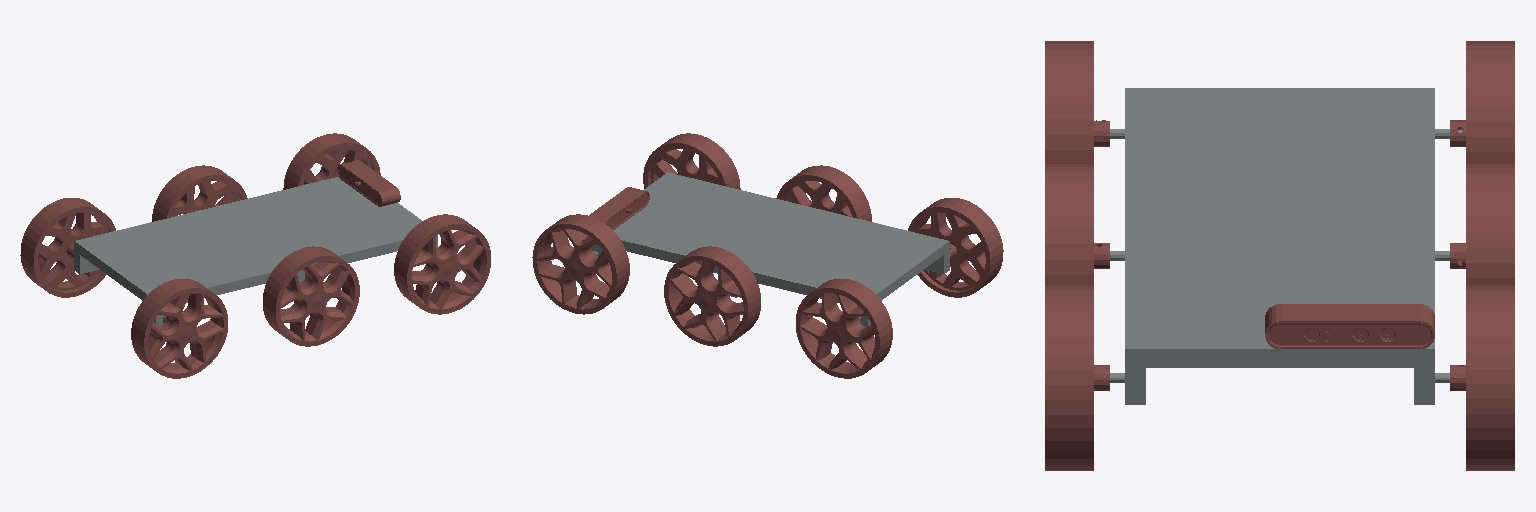
robot.urdf — robot_6wheel_package:
<?xml version="1.0" encoding="utf-8"?>
<!-- This URDF was automatically created by SolidWorks to URDF Exporter! Originally created by [author] ([email redacted]) 
     Commit Version: 1.6.0-4-g7f85cfe  Build Version: 1.6.7995.38578
     For more information, please see http://wiki.ros.org/sw_urdf_exporter -->
<robot
  name="robot_6wheel_package">
  <gazebo reference="chasis_base_link">
   <material>Gazebo/Orange</material>
   <mu1>0.5</mu1>
   <mu2>0.5</mu2>
  </gazebo>
  <gazebo reference="wheel1_link">
     <material>Gazebo/White</material>
     <mu1>0.5</mu1>
     <mu2>0.5</mu2>
    </gazebo>
  <gazebo reference="wheel2_link">
     <material>Gazebo/White</material>
     <mu1>0.5</mu1>
     <mu2>0.5</mu2>
    </gazebo>
  <gazebo reference="wheel3_link">
     <material>Gazebo/White</material>
     <mu1>0.5</mu1>
     <mu2>0.5</mu2>
    </gazebo>
  <gazebo reference="wheel4_link">
     <material>Gazebo/White</material>
     <mu1>0.5</mu1>
     <mu2>0.5</mu2>
    </gazebo>
  <gazebo reference="wheel5_link">
     <material>Gazebo/White</material>
     <mu1>0.5</mu1>
     <mu2>0.5</mu2>
    </gazebo>
  <gazebo reference="wheel6_link">
     <material>Gazebo/White</material>
     <mu1>0.5</mu1>
     <mu2>0.5</mu2>
    </gazebo>
  <gazebo>
    <plugin filename="libgazebo_ros_diff_drive.so" name="differential_drive_controller">
        <alwaysOn>true</alwaysOn>
        <updateRate>20</updateRate>
        <leftJoint>wheel1_joint</leftJoint>
        <rightJoint>wheel4_joint</rightJoint>
        <wheelSeparation>0.204</wheelSeparation>
        <wheelDiameter>0.09</wheelDiameter>
        <torque>1</torque>
        <commandTopic>cmd_vel</commandTopic>
        <odometryTopic>odom</odometryTopic>
        <odometryFrame>odom</odometryFrame>
        <robotBaseFrame>link_chassis</robotBaseFrame>
    </plugin>
  </gazebo>

  <gazebo reference="camera_Link">
    <sensor type="ray" name="head_hokuyo_sensor">
        <pose>0 0 0 0 0 0</pose>
        <visualize>true</visualize>
        <update_rate>20</update_rate>
        <ray>
            <scan>
                <horizontal>
                    <samples>720</samples>
                    <resolution>1</resolution>
                    <min_angle>-0.7854</min_angle>
                    <max_angle>0.7854</max_angle>
                </horizontal>
            </scan>
            <range>
                <min>0.20</min>
                <max>5</max>
                <resolution>0.01</resolution>
            </range>
            <noise>
                <type>gaussian</type>
                <mean>0.0</mean>
                <stddev>0.01</stddev>
            </noise>
        </ray>
        <plugin name="gazebo_ros_head_hokuyo_controller" filename="libgazebo_ros_laser.so">
            <topicName>/laser/scan</topicName>
            <frameName>sensor_laser</frameName>
        </plugin>
    </sensor>
   </gazebo>

  <link
    name="chasis_base_link">
    <inertial>
      <origin
        xyz="0.15 0.075 -0.00582993130335166"
        rpy="0 0 0" />
      <mass
        value="3.7155783170235" />
      <inertia
        ixx="0.00771270055030406"
        ixy="-8.76827992918461E-18"
        ixz="-7.78645455459057E-20"
        iyy="0.0290967066578026"
        iyz="-1.44687258735659E-19"
        izz="0.036650978009623" />
    </inertial>
    <visual>
      <origin
        xyz="0 0 0"
        rpy="0 0 0" />
      <geometry>
        <mesh
          filename="package://robot_6wheel_package/meshes/chasis_base_link.STL" />
      </geometry>
      <material
        name="">
        <color
          rgba="0.529411764705882 0.549019607843137 0.549019607843137 1" />
      </material>
    </visual>
    <collision>
      <origin
        xyz="0 0 0"
        rpy="0 0 0" />
      <geometry>
        <mesh
          filename="package://robot_6wheel_package/meshes/chasis_base_link.STL" />
      </geometry>
    </collision>
  </link>
  <link
    name="wheel1_link">
    <inertial>
      <origin
        xyz="3.4095E-06 2.8072E-05 0.020558"
        rpy="0 0 0" />
      <mass
        value="0.78115" />
      <inertia
        ixx="0.00047604"
        ixy="-9.2939E-08"
        ixz="-2.7041E-09"
        iyy="0.00047528"
        iyz="-2.2261E-08"
        izz="0.00089314" />
    </inertial>
    <visual>
      <origin
        xyz="0 0 0"
        rpy="0 0 0" />
      <geometry>
        <mesh
          filename="package://robot_6wheel_package/meshes/wheel1_link.STL" />
      </geometry>
      <material
        name="">
        <color
          rgba="0.53725 0.34902 0.33725 1" />
      </material>
    </visual>
    <collision>
      <origin
        xyz="0 0 0"
        rpy="0 0 0" />
      <geometry>
        <mesh
          filename="package://robot_6wheel_package/meshes/wheel1_link.STL" />
      </geometry>
    </collision>
  </link>
  <joint
    name="wheel1_joint"
    type="revolute">
    <origin
      xyz="0.29 0.15725 -0.02"
      rpy="-1.5708 0 0" />
    <parent
      link="chasis_base_link" />
    <child
      link="wheel1_link" />
    <axis
      xyz="0 0 1" />
    <limit
      lower="-10000"
      upper="10000"
      effort="10000"
      velocity="10000" />
    <dynamics 
      damping="0"
      friction= "0.005" />
  </joint>
  <link
    name="wheel2_link">
    <inertial>
      <origin
        xyz="-2.8011E-05 -3.8831E-06 0.020558"
        rpy="0 0 0" />
      <mass
        value="0.78115" />
      <inertia
        ixx="0.00047529"
        ixy="-1.0561E-07"
        ixz="2.2212E-08"
        iyy="0.00047603"
        iyz="3.079E-09"
        izz="0.00089314" />
    </inertial>
    <visual>
      <origin
        xyz="0 0 0"
        rpy="0 0 0" />
      <geometry>
        <mesh
          filename="package://robot_6wheel_package/meshes/wheel2_link.STL" />
      </geometry>
      <material
        name="">
        <color
          rgba="0.53725 0.34902 0.33725 1" />
      </material>
    </visual>
    <collision>
      <origin
        xyz="0 0 0"
        rpy="0 0 0" />
      <geometry>
        <mesh
          filename="package://robot_6wheel_package/meshes/wheel2_link.STL" />
      </geometry>
    </collision>
  </link>
  <joint
    name="wheel2_joint"
    type="revolute">
    <origin
      xyz="0.15 0.15725 -0.02"
      rpy="-1.5708 0 0" />
    <parent
      link="chasis_base_link" />
    <child
      link="wheel2_link" />
    <axis
      xyz="0 0 1" />
    <dynamics 
      damping="0"
      friction= "0.005" />
    <limit
      lower="-10000"
      upper="10000"
      effort="10000"
      velocity="10000" />
    <dynamics 
      damping="0"
      friction= "0" />
  </joint>
  <link
    name="wheel3_link">
    <inertial>
      <origin
        xyz="-2.1048E-05 1.8886E-05 0.020558"
        rpy="0 0 0" />
      <mass
        value="0.78115" />
      <inertia
        ixx="0.00047562"
        ixy="3.8598E-07"
        ixz="1.6691E-08"
        iyy="0.0004757"
        iyz="-1.4977E-08"
        izz="0.00089314" />
    </inertial>
    <visual>
      <origin
        xyz="0 0 0"
        rpy="0 0 0" />
      <geometry>
        <mesh
          filename="package://robot_6wheel_package/meshes/wheel3_link.STL" />
      </geometry>
      <material
        name="">
        <color
          rgba="0.53725 0.34902 0.33725 1" />
      </material>
    </visual>
    <collision>
      <origin
        xyz="0 0 0"
        rpy="0 0 0" />
      <geometry>
        <mesh
          filename="package://robot_6wheel_package/meshes/wheel3_link.STL" />
      </geometry>
    </collision>
  </link>
  <joint
    name="wheel3_joint"
    type="revolute">
    <origin
      xyz="0.01 0.15725 -0.02"
      rpy="-1.5708 0 0" />
    <parent
      link="chasis_base_link" />
    <child
      link="wheel3_link" />
    <axis
      xyz="0 0 1" />
    <limit
      lower="-10000"
      upper="10000"
      effort="10000"
      velocity="10000" />
    <dynamics 
      damping="0"
      friction= "0.005" />
  </joint>
  <link
    name="wheel4_link">
    <inertial>
      <origin
        xyz="2.449E-05 1.414E-05 -0.011348"
        rpy="0 0 0" />
      <mass
        value="0.78115" />
      <inertia
        ixx="0.00047546"
        ixy="-3.3624E-07"
        ixz="-1.9421E-08"
        iyy="0.00047585"
        iyz="-1.1212E-08"
        izz="0.00089314" />
    </inertial>
    <visual>
      <origin
        xyz="0 0 0"
        rpy="0 0 0" />
      <geometry>
        <mesh
          filename="package://robot_6wheel_package/meshes/wheel4_link.STL" />
      </geometry>
      <material
        name="">
        <color
          rgba="0.53725 0.34902 0.33725 1" />
      </material>
    </visual>
    <collision>
      <origin
        xyz="0 0 0"
        rpy="0 0 0" />
      <geometry>
        <mesh
          filename="package://robot_6wheel_package/meshes/wheel4_link.STL" />
      </geometry>
    </collision>
  </link>
  <joint
    name="wheel4_joint"
    type="revolute">
    <origin
      xyz="0.29 -0.039156 -0.02"
      rpy="1.5708 0 0" />
    <parent
      link="chasis_base_link" />
    <child
      link="wheel4_link" />
    <axis
      xyz="0 0 1" />
    <limit
      lower="-10000"
      upper="10000"
      effort="10000"
      velocity="10000" />
    <dynamics 
      damping="0"
      friction= "0.005" />
  </joint>
  <link
    name="wheel5_link">
    <inertial>
      <origin
        xyz="-5.0954E-06 -2.7816E-05 -0.011348"
        rpy="0 0 0" />
      <mass
        value="0.78115" />
      <inertia
        ixx="0.00047602"
        ixy="-1.3762E-07"
        ixz="4.041E-09"
        iyy="0.0004753"
        iyz="2.2058E-08"
        izz="0.00089314" />
    </inertial>
    <visual>
      <origin
        xyz="0 0 0"
        rpy="0 0 0" />
      <geometry>
        <mesh
          filename="package://robot_6wheel_package/meshes/wheel5_link.STL" />
      </geometry>
      <material
        name="">
        <color
          rgba="0.53725 0.34902 0.33725 1" />
      </material>
    </visual>
    <collision>
      <origin
        xyz="0 0 0"
        rpy="0 0 0" />
      <geometry>
        <mesh
          filename="package://robot_6wheel_package/meshes/wheel5_link.STL" />
      </geometry>
    </collision>
  </link>
  <joint
    name="wheel5_joint"
    type="revolute">
    <origin
      xyz="0.15 -0.039156 -0.02"
      rpy="1.5708 0 0" />
    <parent
      link="chasis_base_link" />
    <child
      link="wheel5_link" />
    <axis
      xyz="0 0 1" />
    <limit
      lower="-10000"
      upper="10000"
      effort="10000"
      velocity="10000" />
    <dynamics 
      damping="0"
      friction= "0.005" />
  </joint>
  <link
    name="wheel6_link">
    <inertial>
      <origin
        xyz="9.5735E-06 -2.6609E-05 -0.011348"
        rpy="0 0 0" />
      <mass
        value="0.78115" />
      <inertia
        ixx="0.00047596"
        ixy="2.4735E-07"
        ixz="-7.5914E-09"
        iyy="0.00047536"
        iyz="2.1101E-08"
        izz="0.00089314" />
    </inertial>
    <visual>
      <origin
        xyz="0 0 0"
        rpy="0 0 0" />
      <geometry>
        <mesh
          filename="package://robot_6wheel_package/meshes/wheel6_link.STL" />
      </geometry>
      <material
        name="">
        <color
          rgba="0.53725 0.34902 0.33725 1" />
      </material>
    </visual>
    <collision>
      <origin
        xyz="0 0 0"
        rpy="0 0 0" />
      <geometry>
        <mesh
          filename="package://robot_6wheel_package/meshes/wheel6_link.STL" />
      </geometry>
    </collision>
  </link>
  <joint
    name="wheel6_joint"
    type="revolute">
    <origin
      xyz="0.01 -0.039156 -0.02"
      rpy="1.5708 0 0" />
    <parent
      link="chasis_base_link" />
    <child
      link="wheel6_link" />
    <axis
      xyz="0 0 1" />
    <limit
      lower="-10000"
      upper="10000"
      effort="10000"
      velocity="10000" />
    <dynamics 
      damping="0"
      friction= "0.005" />
  </joint>
  <link
    name="camera_Link">
    <inertial>
      <origin
        xyz="-0.0095879 0.01837 5.5091E-06"
        rpy="0 0 0" />
      <mass
        value="0.20262" />
      <inertia
        ixx="0.0001105"
        ixy="9.3359E-09"
        ixz="1.3216E-08"
        iyy="9.9558E-06"
        iyz="-5.5205E-12"
        izz="0.00011302" />
    </inertial>
    <visual>
      <origin
        xyz="0 0 0"
        rpy="0 0 0" />
      <geometry>
        <mesh
          filename="package://robot_6wheel_package/meshes/camera_Link.STL" />
      </geometry>
      <material
        name="">
        <color
          rgba="0.53725 0.34902 0.33725 1" />
      </material>
    </visual>
    <collision>
      <origin
        xyz="0 0 0"
        rpy="0 0 0" />
      <geometry>
        <mesh
          filename="package://robot_6wheel_package/meshes/camera_Link.STL" />
      </geometry>
    </collision>
  </link>
  <joint
    name="camera_joint"
    type="fixed">
    <origin
      xyz="0.2995 0.090625 0.0075"
      rpy="0 0 0" />
    <parent
      link="chasis_base_link" />
    <child
      link="camera_Link" />
    <axis
      xyz="0 0 0" />
  </joint>
</robot>

--- Facts derived from the render (not from the file) ---
Views: 3 orthographic renders of the robot side by side, from view 1: azimuth 30°, elevation 25°; view 2: azimuth 150°, elevation 25°; view 3: azimuth 270°, elevation 25°.
Robot: robot_6wheel_package — 8 links, 7 joints (6 revolute, 1 fixed); root link chasis_base_link; default pose: every joint at zero.
Visible links, largest first — view 1: chasis_base_link, wheel6_link, wheel4_link, wheel5_link, wheel3_link, wheel2_link, wheel1_link, camera_Link; view 2: chasis_base_link, wheel1_link, wheel3_link, wheel2_link, wheel6_link, wheel4_link, wheel5_link, camera_Link; view 3: chasis_base_link, wheel1_link, wheel4_link, camera_Link, wheel6_link, wheel3_link, wheel5_link, wheel2_link.
Link boxes in pixels (x1,y1,x2,y2): chasis_base_link: (74, 177, 437, 324); wheel6_link: (131, 279, 227, 378); wheel4_link: (394, 214, 490, 314); wheel5_link: (263, 246, 359, 346); wheel3_link: (20, 198, 115, 297); wheel2_link: (152, 165, 247, 221); wheel1_link: (283, 133, 380, 189); camera_Link: (337, 160, 400, 206); chasis_base_link: (592, 172, 949, 326); wheel1_link: (532, 214, 629, 314); wheel3_link: (796, 279, 892, 378); wheel2_link: (664, 246, 760, 346); wheel6_link: (908, 198, 1003, 297); wheel4_link: (643, 133, 740, 189); wheel5_link: (776, 165, 871, 221); camera_Link: (589, 187, 649, 229); chasis_base_link: (1110, 88, 1462, 404); wheel1_link: (1450, 285, 1514, 470); wheel4_link: (1045, 285, 1109, 470); camera_Link: (1265, 304, 1434, 348); wheel6_link: (1045, 41, 1109, 162); wheel3_link: (1450, 41, 1514, 162); wheel5_link: (1045, 163, 1109, 284); wheel2_link: (1450, 163, 1514, 284).
Size in the robot's own frame: 0.3699 by 0.2283 by 0.09 metres.
8 mesh visuals loaded from 8 distinct referenced files (8 binary STL).
